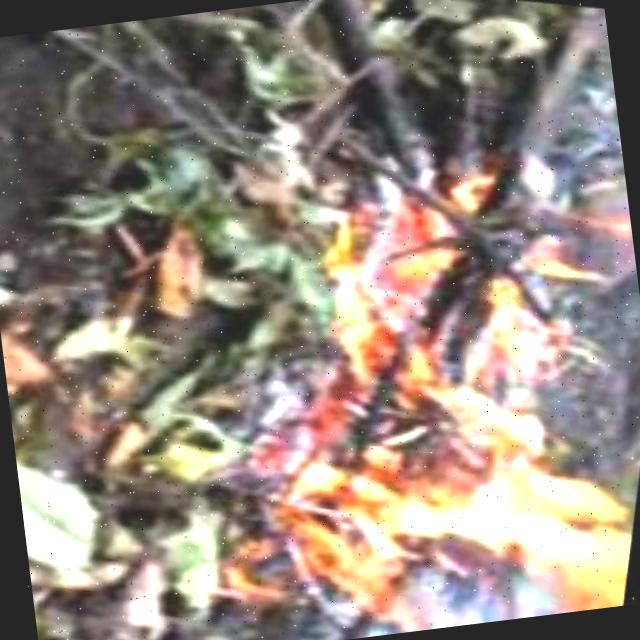fire: (215, 316, 640, 640), (305, 155, 640, 466)
